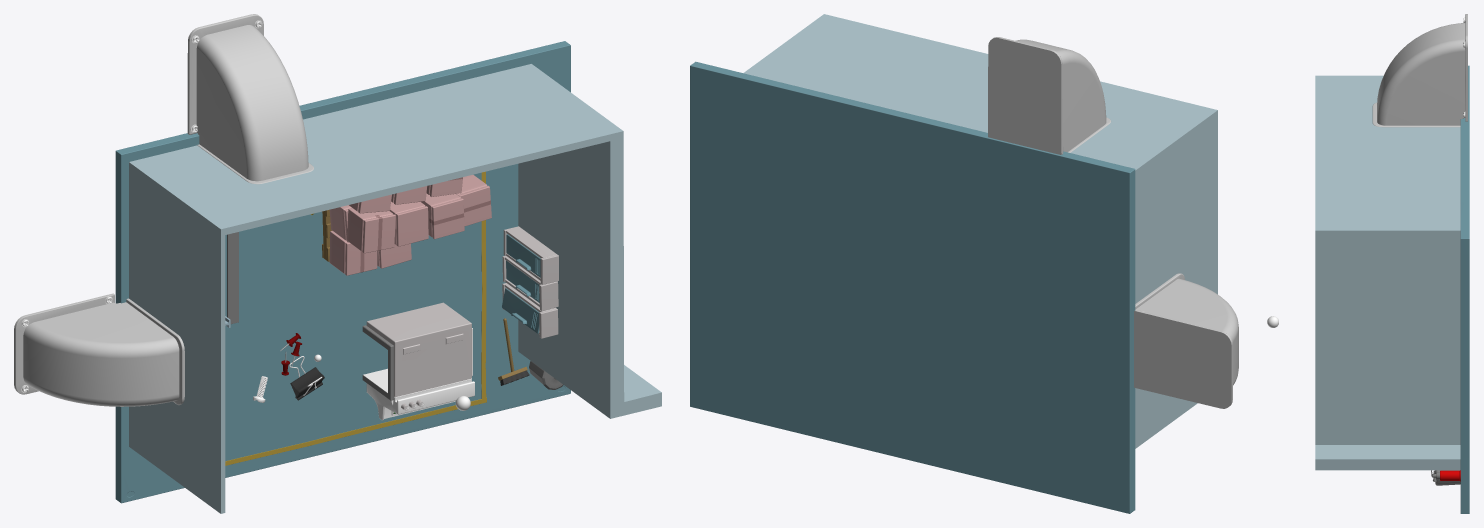
The picture shows the model from 3 angles, left to right: view 1: azimuth 30°, elevation 25°; view 2: azimuth 150°, elevation 25°; view 3: azimuth 270°, elevation 25°; orthographic projection. The views are drawn at different scales.
Parts seen in each view (by area): view 1: Walls, Mesh8_Plastic_Blue_0, pTorus5, pTorus5_Plastic_Pink_Details_0.001, Body, Box_032, Box_033, Box_025, Box_028, pCube91, Box_035, pCube210 (+6 smaller); view 2: Mesh8_Plastic_Blue_0, Walls, pTorus5_Plastic_Pink_Details_0.001, pTorus5; view 3: Walls, pTorus5_Plastic_Pink_Details_0.001, Mesh8_Plastic_Blue_0.
Boxes of the visible parts, box(x1,y1,x2,y2) form: Walls: box(129, 64, 661, 513); Mesh8_Plastic_Blue_0: box(115, 41, 570, 503); pTorus5: box(14, 293, 184, 406); pTorus5_Plastic_Pink_Details_0.001: box(187, 14, 313, 184); Body: box(366, 302, 474, 420); Box_032: box(347, 208, 395, 253); Box_033: box(421, 193, 464, 239); Box_025: box(390, 201, 428, 246); Box_028: box(329, 231, 377, 275); pCube91: box(225, 397, 486, 465); Box_035: box(456, 175, 491, 226); pCube210: box(227, 232, 238, 324); Mesh8_Plastic_Blue_0: box(690, 61, 1135, 513); Walls: box(743, 14, 1217, 448); pTorus5_Plastic_Pink_Details_0.001: box(988, 37, 1111, 154); pTorus5: box(1134, 273, 1238, 408); Walls: box(1315, 75, 1460, 470); pTorus5_Plastic_Pink_Details_0.001: box(1372, 14, 1467, 127); Mesh8_Plastic_Blue_0: box(1460, 65, 1469, 513).
Bounding box in the file's own units: 64.29 × 50.36 × 25.86.
